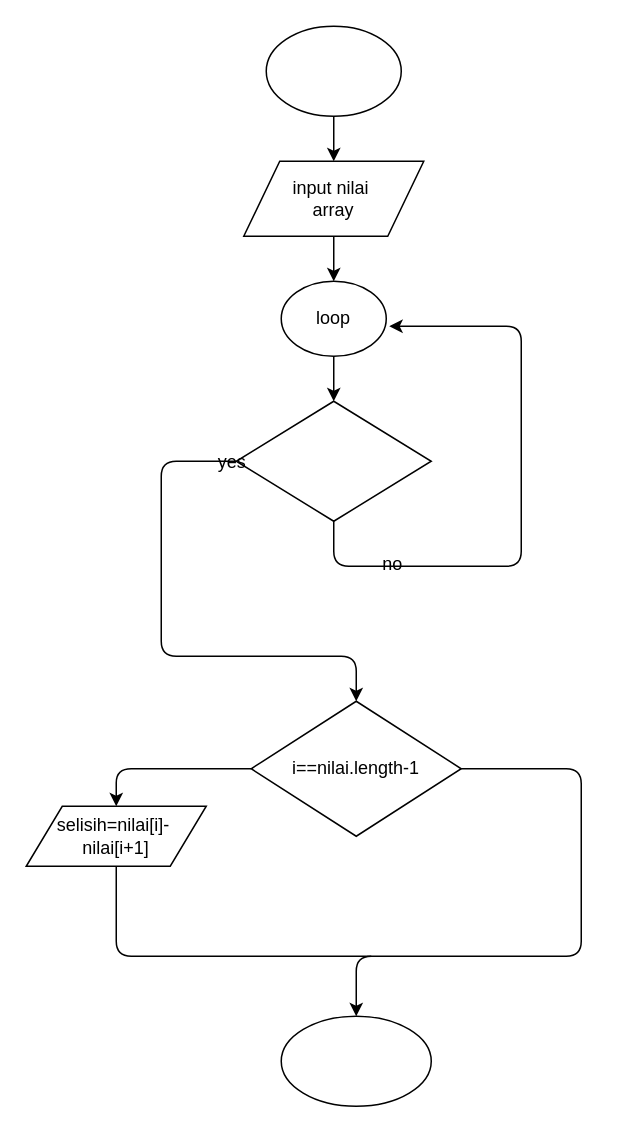
The diagram is 620 pixels wide and 1133 high, and some of its shapes have lost their labels. Each missing label, with the centre of its shape:
"i=0;i<nilai.length; i++" belongs at point 333,460.
"START" belongs at point 333,70.
